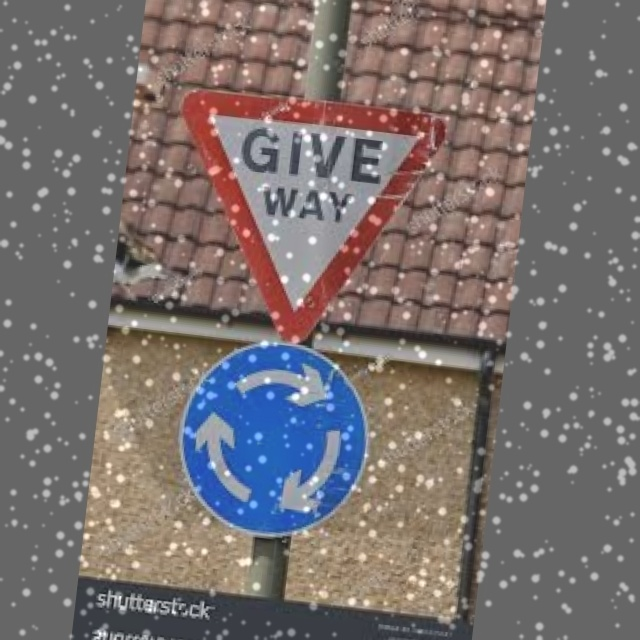Give_Way: (163, 86, 447, 360)
